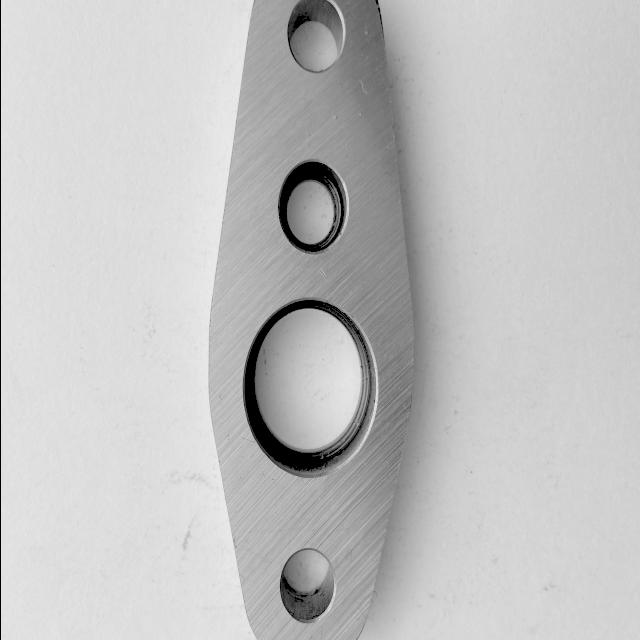chap: (314, 264, 328, 284), (356, 76, 368, 96), (330, 112, 339, 122)
